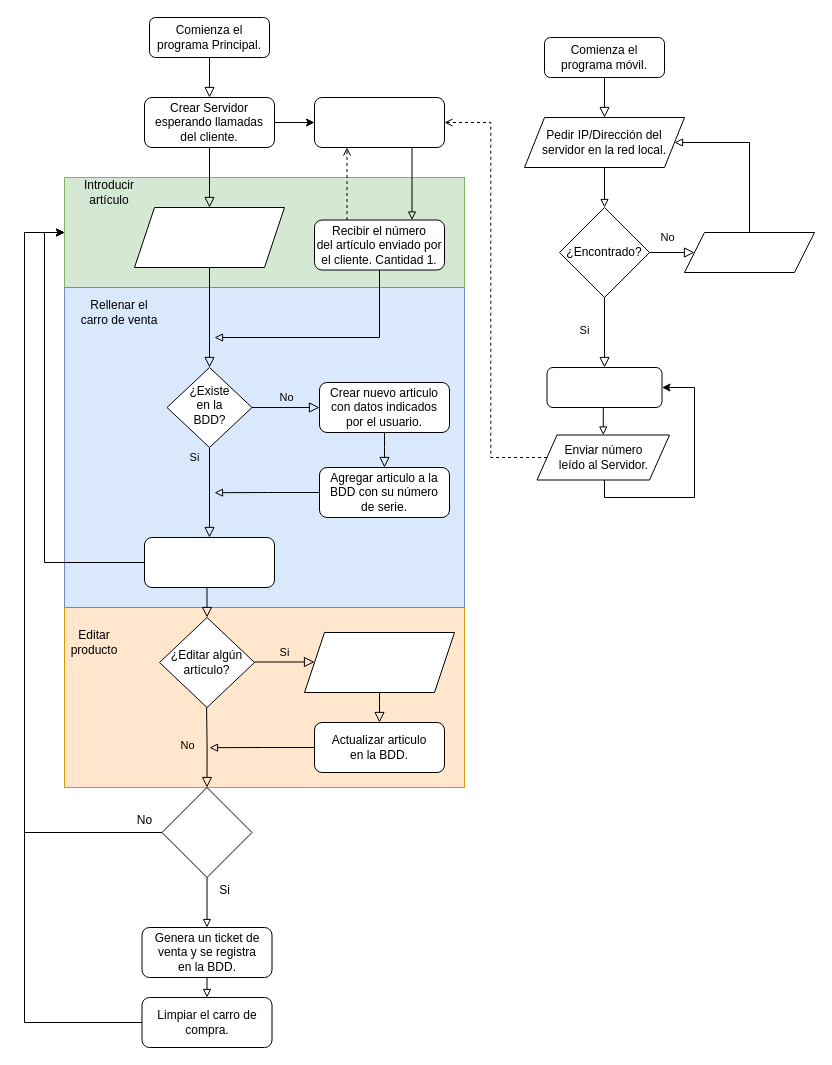
This 832x1065 diagram has some shape labels left out. Here are the shapes that lost their labels. From the top down, the centre of each, then its label:
(379,122): Servidor espera llamadas del programa móvil.
(209,237): Usuario introduce los datos y lacantidad manualmente
(749,252): Mostrar mensaje de error.
(604,387): Escanear barras.
(209,562): Agregar x unidad del artículo al carro de compra.
(379,662): Abrir ventanilla para permitir introducir los nuevos datos.
(206,832): ¿Usuario confirma venta?
